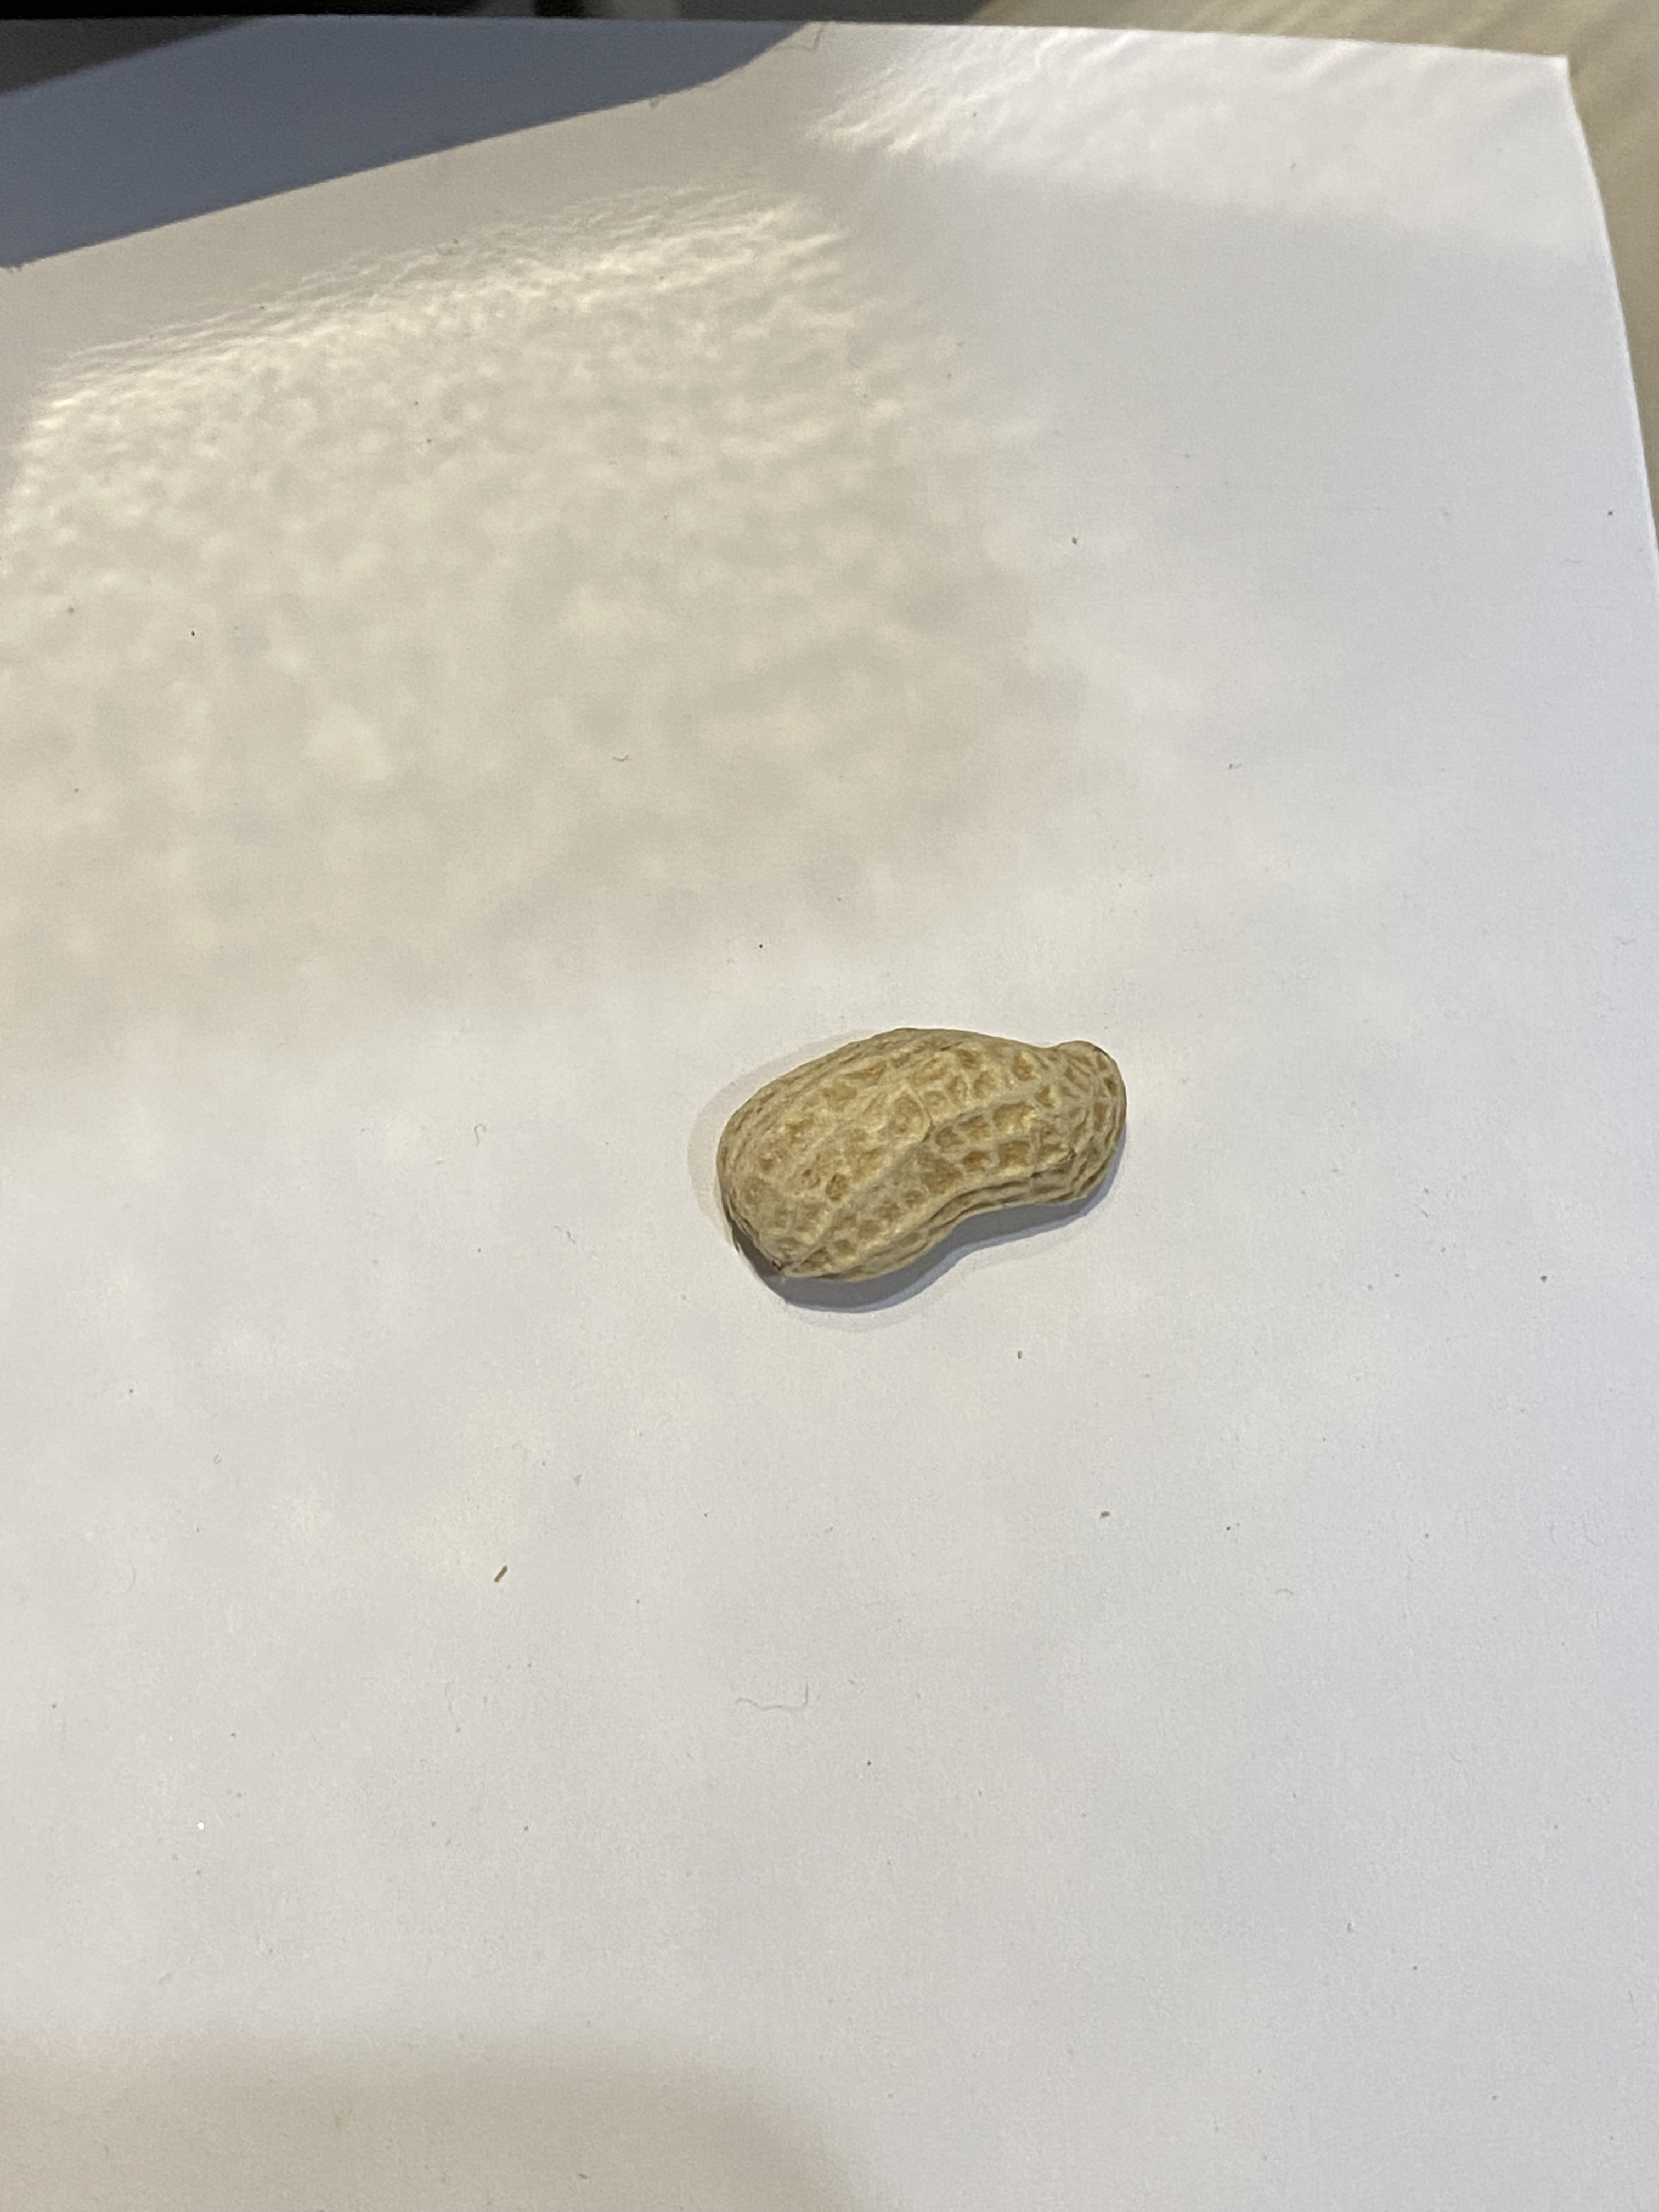kacang2: (666, 1005, 1148, 1289)
